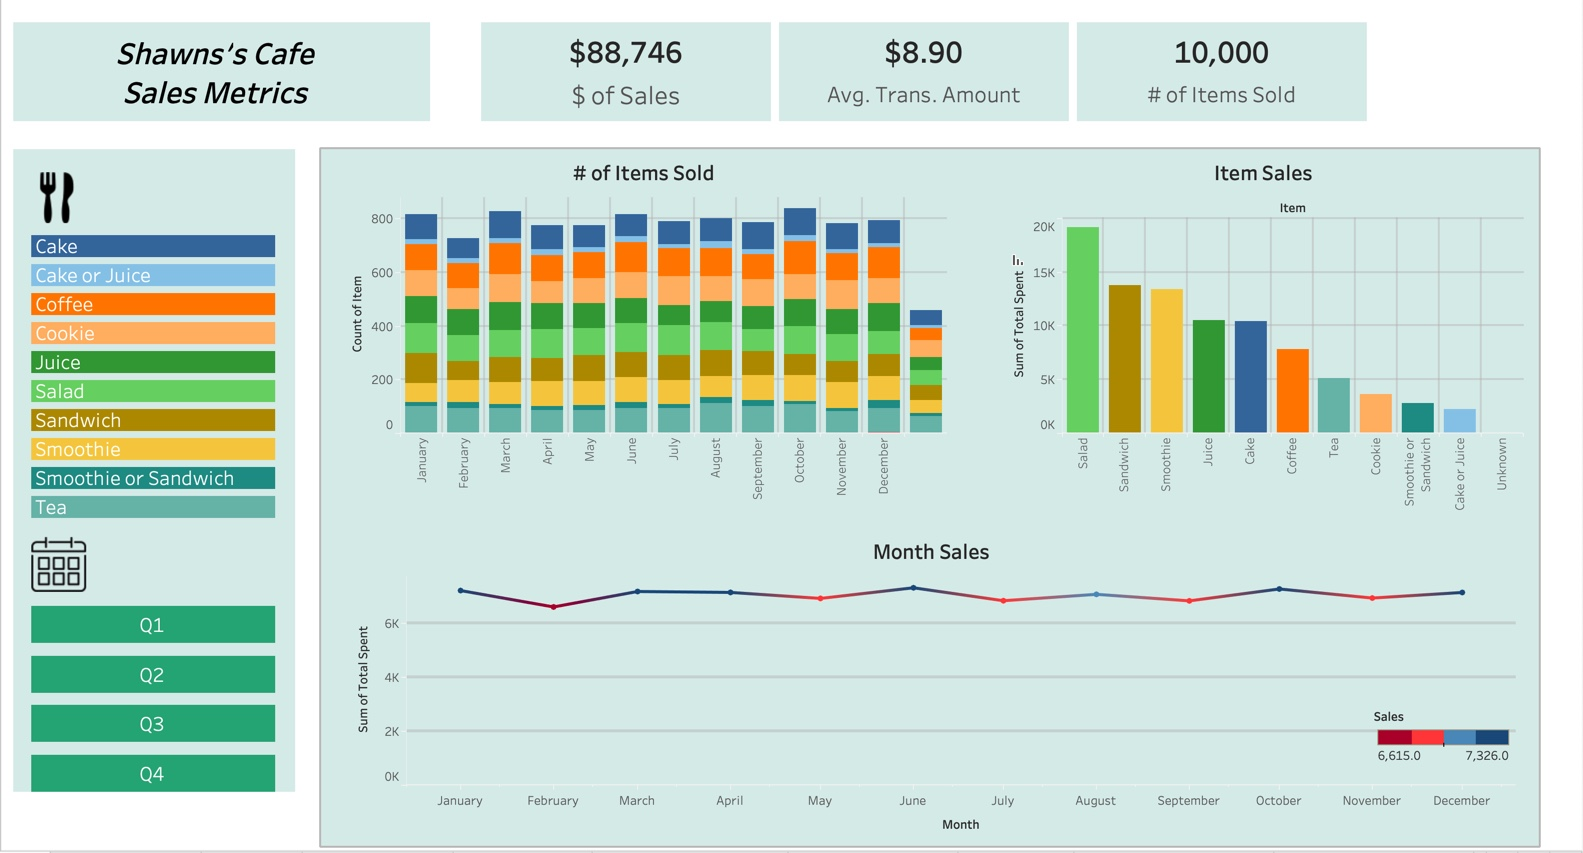

What the dashboard file says about the page in this screenshot:
{"tool":"tableau","page":{"name":"Sales Dashboard","canvas":[1000,1000],"units":"permille","ordinal":0},"visuals":[{"type":"blank","box":[301.1,21.2,188.5,125.9]},{"type":"blank","box":[489.6,21.2,188.5,125.9]},{"type":"blank","box":[678.1,21.2,188.5,125.9]},{"type":"blank","box":[7.6,25.3,263.8,117.4]},{"type":"worksheet","title":"Total Sales","mark":"Automatic","box":[303.6,31.8,183.4,55.3]},{"type":"worksheet","title":"Avg. Transaction Amount","mark":"Automatic","box":[492.1,31.8,183.4,56.5]},{"type":"worksheet","title":"# of items Sold","mark":"Automatic","box":[680.6,31.8,183.4,56.5]},{"type":"text","box":[1.9,35.3,268.2,98.8]},{"type":"text","box":[303.6,87.1,183.4,49.4]},{"type":"text","box":[492.1,88.2,183.4,43.5]},{"type":"text","box":[680.6,88.2,183.4,43.5]},{"type":"blank","box":[7.6,175.1,178.4,757.1]},{"type":"blank","box":[202.4,175.1,770.4,819.8]},{"type":"worksheet","title":"Number of Items Sold by Month","mark":"Automatic","rows":["item"],"cols":["transaction_month"],"box":[212.5,176.5,388.4,431.8]},{"type":"blank","box":[601,176.5,30.4,431.8]},{"type":"worksheet","title":"$ of Sales by Item","mark":"Automatic","rows":["total_spent"],"cols":["item"],"box":[631.3,176.5,335.1,431.8]},{"type":"image","param":"/Users/shawnsullivan/Downloads/restaurant-3-512.png","box":[16.4,198,159.4,69.4]},{"type":"worksheet","title":"Item Filter","mark":"Automatic","rows":["item"],"cols":["Calculation_632755792675414023"],"box":[16.4,267.4,159.4,350.1]},{"type":"image","param":"/Users/shawnsullivan/Downloads/calendar-7-512.gif","box":[16.4,626.9,159.4,74.1]},{"type":"worksheet","title":"Sales by Month","mark":"Automatic","rows":["total_spent"],"cols":["transaction_date"],"box":[218.8,627.1,739.4,361.2]},{"type":"worksheet","title":"Quarter Filter","mark":"Bar","rows":["transaction_date"],"cols":["Calculation_632755792674578437"],"box":[16.4,701,159.4,242.3]},{"type":"legend","title":"Sales by Month","param":"[federated.1s238yr1ia3ctk16ikmli000e1ae].[sum:total_spent:qk]","box":[868.4,832.9,88.5,89.4]}]}

Visuals, with their boxes on the dashboard's canvas, which has no fixed pixel size, in thousandths of its width and height (x1, y1, x2, y2). These are canvas units, not pixel positions in the 1583x853 screenshot, which may show the page scaled, cropped or inside an application window:
blank: bbox=[301, 21, 490, 147]
blank: bbox=[490, 21, 678, 147]
blank: bbox=[678, 21, 867, 147]
blank: bbox=[8, 25, 271, 143]
"Total Sales" worksheet: bbox=[304, 32, 487, 87]
"Avg. Transaction Amount" worksheet: bbox=[492, 32, 676, 88]
"# of items Sold" worksheet: bbox=[681, 32, 864, 88]
text: bbox=[2, 35, 270, 134]
text: bbox=[304, 87, 487, 136]
text: bbox=[492, 88, 676, 132]
text: bbox=[681, 88, 864, 132]
blank: bbox=[8, 175, 186, 932]
blank: bbox=[202, 175, 973, 995]
"Number of Items Sold by Month" worksheet: bbox=[212, 176, 601, 608]
blank: bbox=[601, 176, 631, 608]
"$ of Sales by Item" worksheet: bbox=[631, 176, 966, 608]
image: bbox=[16, 198, 176, 267]
"Item Filter" worksheet: bbox=[16, 267, 176, 618]
image: bbox=[16, 627, 176, 701]
"Sales by Month" worksheet: bbox=[219, 627, 958, 988]
"Quarter Filter" worksheet (Bar marks): bbox=[16, 701, 176, 943]
"Sales by Month" legend: bbox=[868, 833, 957, 922]
